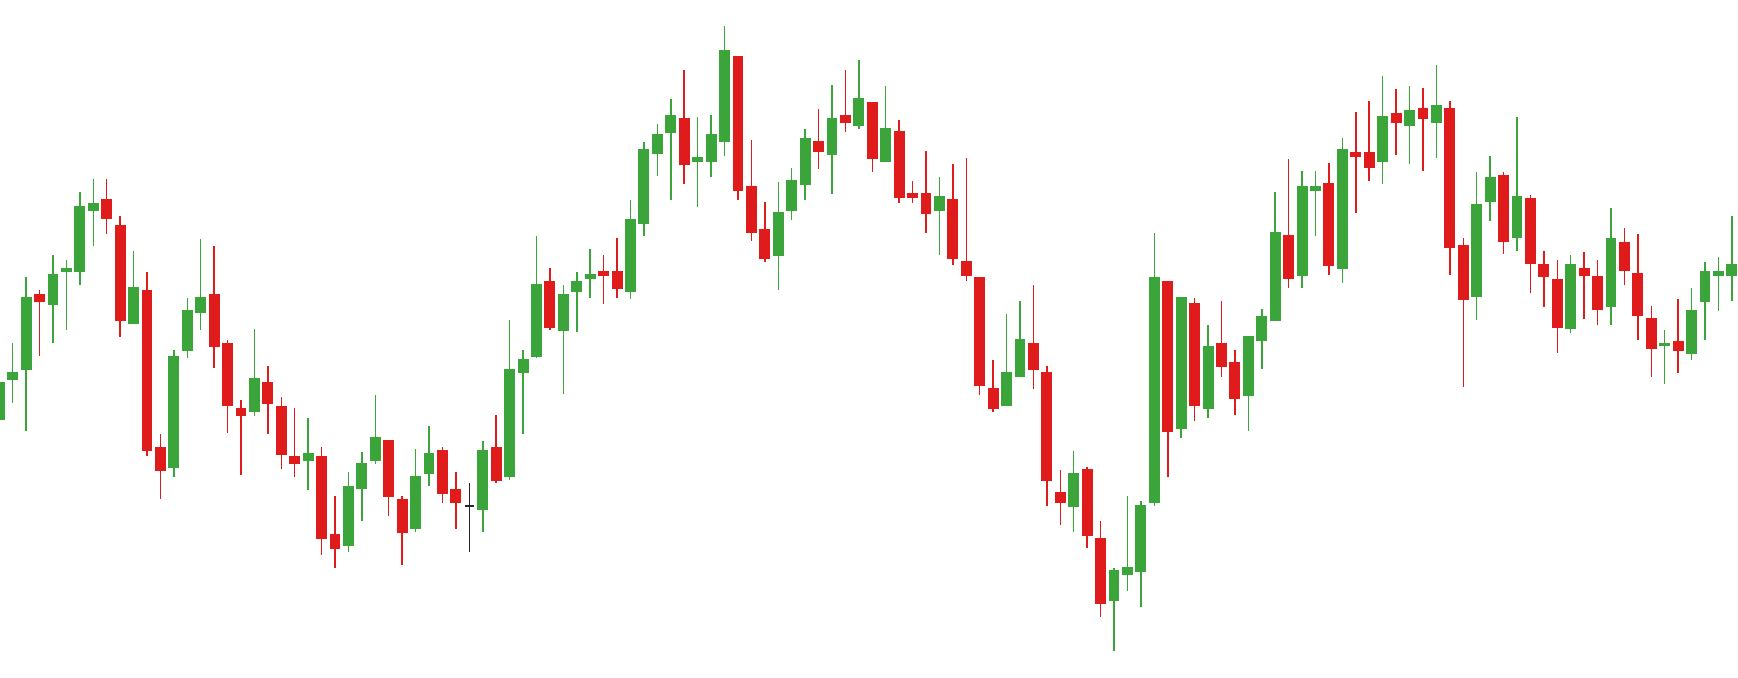buy: (14, 274, 180, 502)
